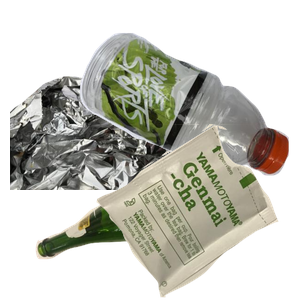glass: (33, 158, 246, 300)
metal: (10, 73, 212, 253)
plastic: (77, 30, 300, 198)
trash: (91, 124, 300, 300)
